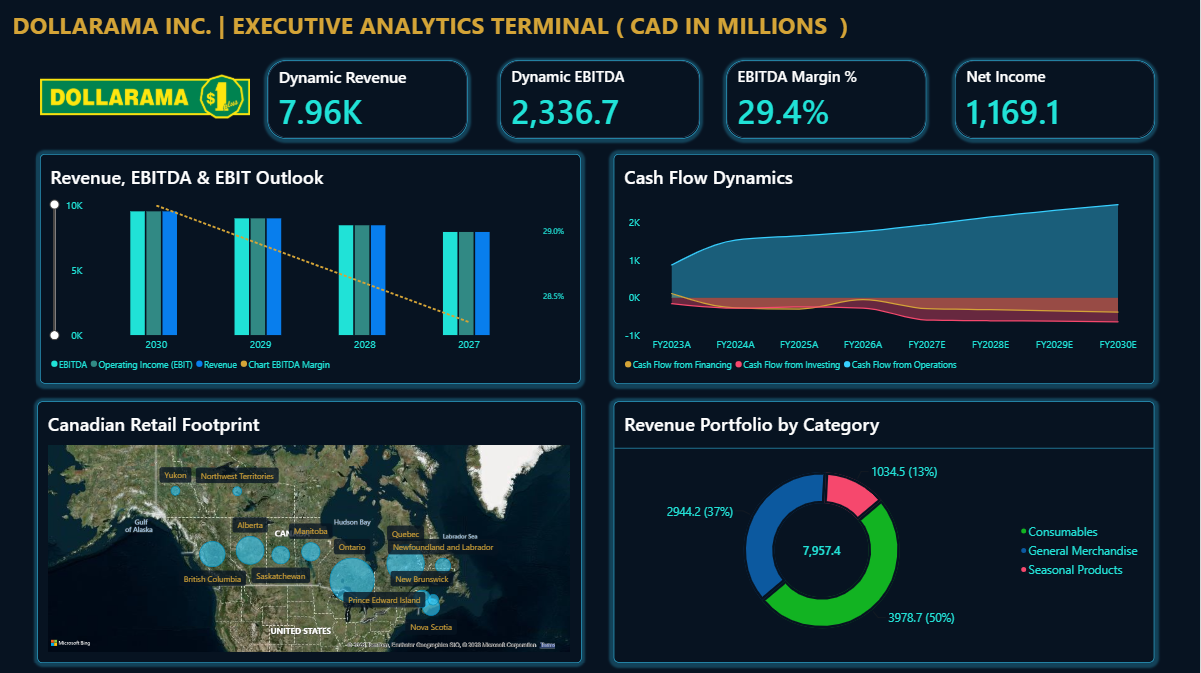

The page's visual inventory and layout, read from the dashboard file:
{"tool":"powerbi","page":{"name":"Executive command","canvas":[1920,1080],"ordinal":0},"visuals":[{"type":"textbox","box":[20,16,1624,60],"z":0},{"type":"cardVisual","fields":{"Data":["Fact_BudgetReforecast.Dynamic Revenue"]},"box":[427.5,97.5,320.3,125.5],"z":1000},{"type":"cardVisual","fields":{"Data":["Fact_BudgetReforecast.Dynamic EBITDA"]},"box":[800,97.5,320.3,125.5],"z":2000},{"type":"cardVisual","fields":{"Data":["Fact_BudgetReforecast.Dynamic EBITDA Margin %"]},"box":[1161.2,98,320.3,125.5],"z":3000},{"type":"cardVisual","fields":{"Data":["Sum(Fact_BudgetReforecast.Amount)"]},"box":[1528,98,320.3,125.5],"z":4000},{"type":"lineClusteredColumnComboChart","title":"Revenue, EBITDA & EBIT Outlook","fields":{"Category":["Fact_BudgetReforecast.Chart Year"],"Series":["Fact_BudgetReforecast.Metrics"],"Y":["Fact_BudgetReforecast.Chart Revenue"],"Y2":["Fact_BudgetReforecast.Chart EBITDA Margin"]},"box":[64,248,865,367.5],"z":5000},{"type":"areaChart","title":"Cash Flow Dynamics","fields":{"Category":["Fact_CashFlow.Fiscal Years"],"Series":["Fact_CashFlow.Metrics"],"Y":["Sum(Fact_CashFlow.Amount)"]},"box":[982,248,865,368],"z":6000},{"type":"map","title":"Canadian Retail Footprint","fields":{"Category":["Fact_CanadaStores.Province"],"Size":["Sum(Fact_CanadaStores.Store Count)"]},"box":[60,644,870,418],"z":7000},{"type":"donutChart","title":"Revenue Portfolio by Category","fields":{"Category":["Fact_ProductCategory.Product Category"],"Y":["Sum(Fact_ProductCategory.Reforecast Revenue (CAD M))"]},"box":[982.4,643.1,864.7,417.6],"z":8000},{"type":"image","box":[64,76,336,160],"z":9000}]}

Visuals, with their boxes in screenshot pixels (x1, y1, x2, y2), scaled from the page's 1920x1080 canvas onto the 1201x673 screenshot:
textbox: {"x1": 13, "y1": 10, "x2": 1028, "y2": 47}
cardVisual - Fact_BudgetReforecast.Dynamic Revenue: {"x1": 267, "y1": 61, "x2": 468, "y2": 139}
cardVisual - Fact_BudgetReforecast.Dynamic EBITDA: {"x1": 500, "y1": 61, "x2": 701, "y2": 139}
cardVisual - Fact_BudgetReforecast.Dynamic EBITDA Margin %: {"x1": 726, "y1": 61, "x2": 927, "y2": 139}
cardVisual - Sum(Fact_BudgetReforecast.Amount): {"x1": 956, "y1": 61, "x2": 1156, "y2": 139}
"Revenue, EBITDA & EBIT Outlook" lineClusteredColumnComboChart: {"x1": 40, "y1": 155, "x2": 581, "y2": 384}
"Cash Flow Dynamics" areaChart: {"x1": 614, "y1": 155, "x2": 1155, "y2": 384}
"Canadian Retail Footprint" map: {"x1": 38, "y1": 401, "x2": 582, "y2": 662}
"Revenue Portfolio by Category" donutChart: {"x1": 615, "y1": 401, "x2": 1155, "y2": 661}
image: {"x1": 40, "y1": 47, "x2": 250, "y2": 147}
